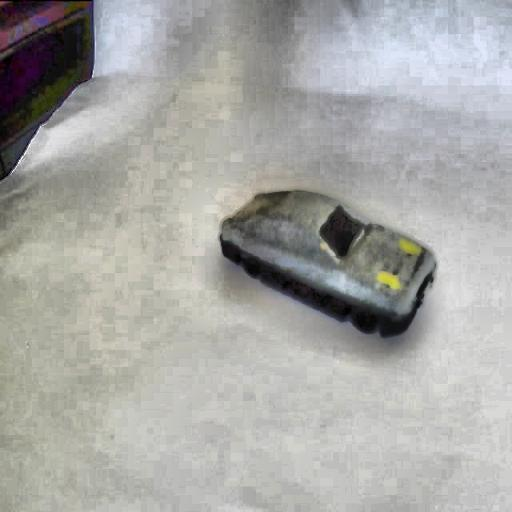normal_car: (216, 184, 440, 338)
